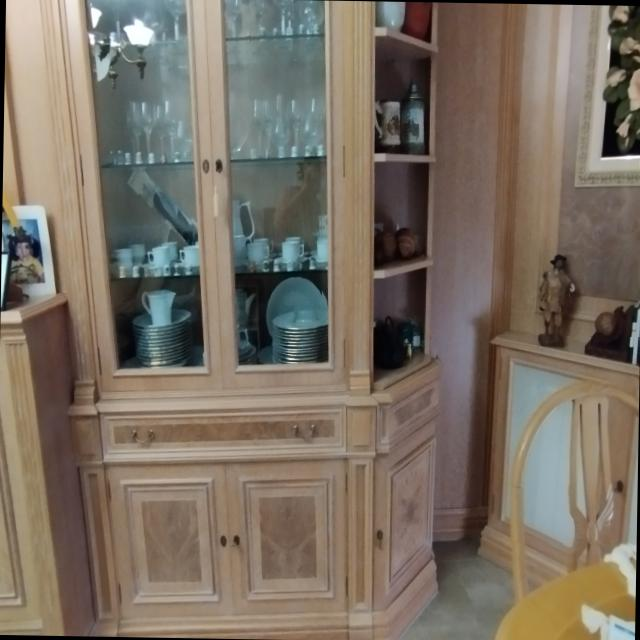cabinet: (53, 0, 438, 640), (478, 335, 638, 571), (0, 294, 93, 636), (523, 402, 574, 585)
chair: (511, 382, 638, 601)
stove: (494, 545, 636, 640)
